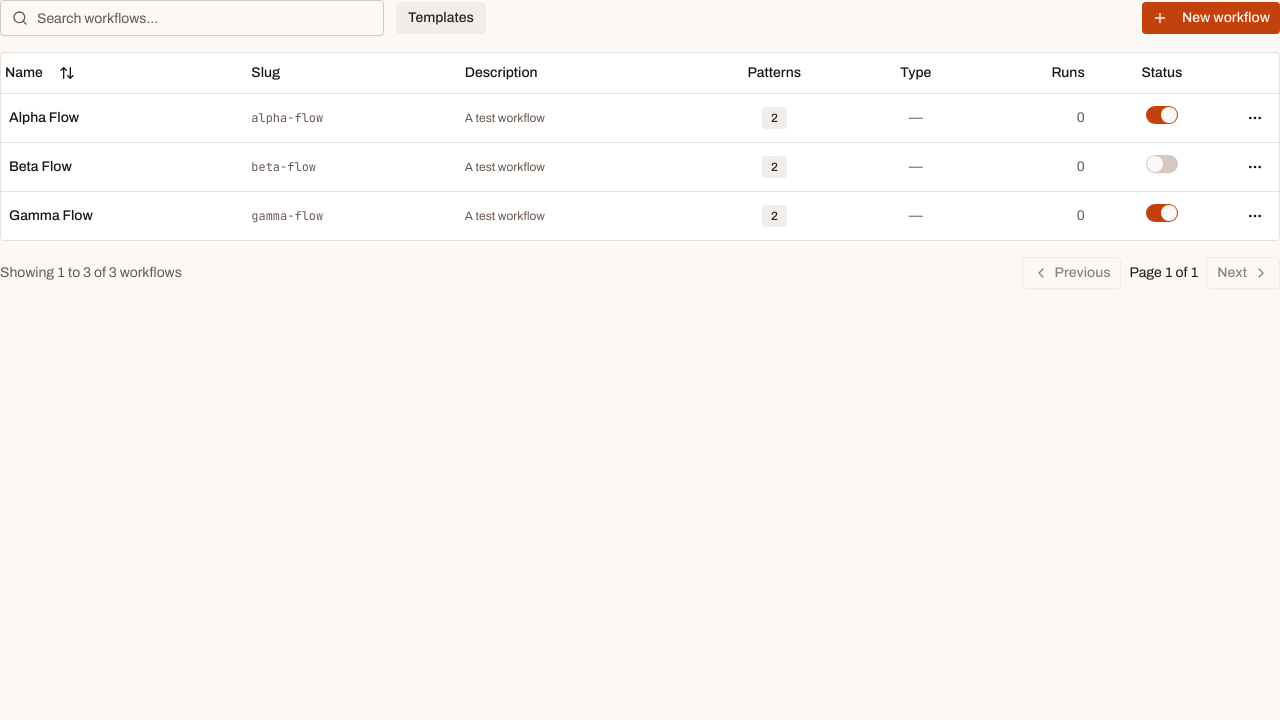
Test case: WorkflowsTable › delete confirm flow › clicking Delete opens the confirmation dialog
The width and height of the screenshot is (1280, 720).
Click the button named "row actions" in the row of "Alpha Flow". click: click(1255, 118)
box: [1239,102,1271,134]
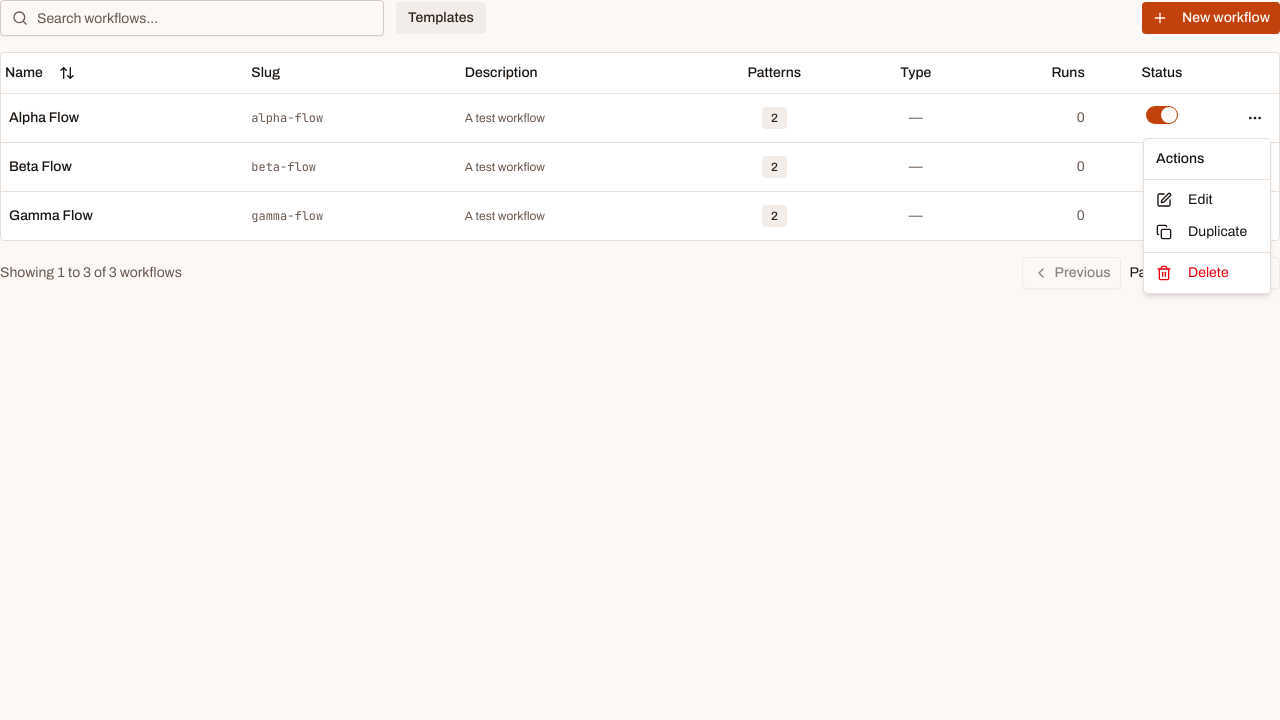
Click the menu item "Delete". click: click(1192, 273)
box: [1156,265,1229,281]
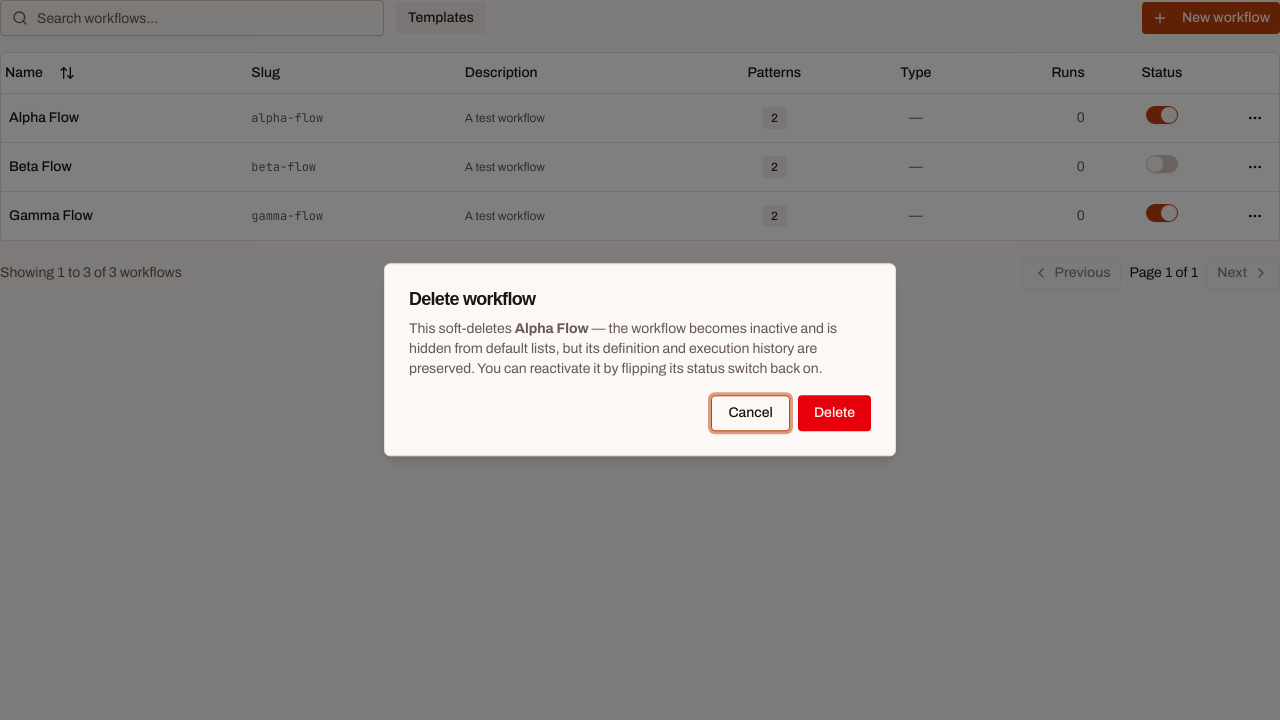
Now the heading "Delete workflow" is shown, box [409,289,535,309]
